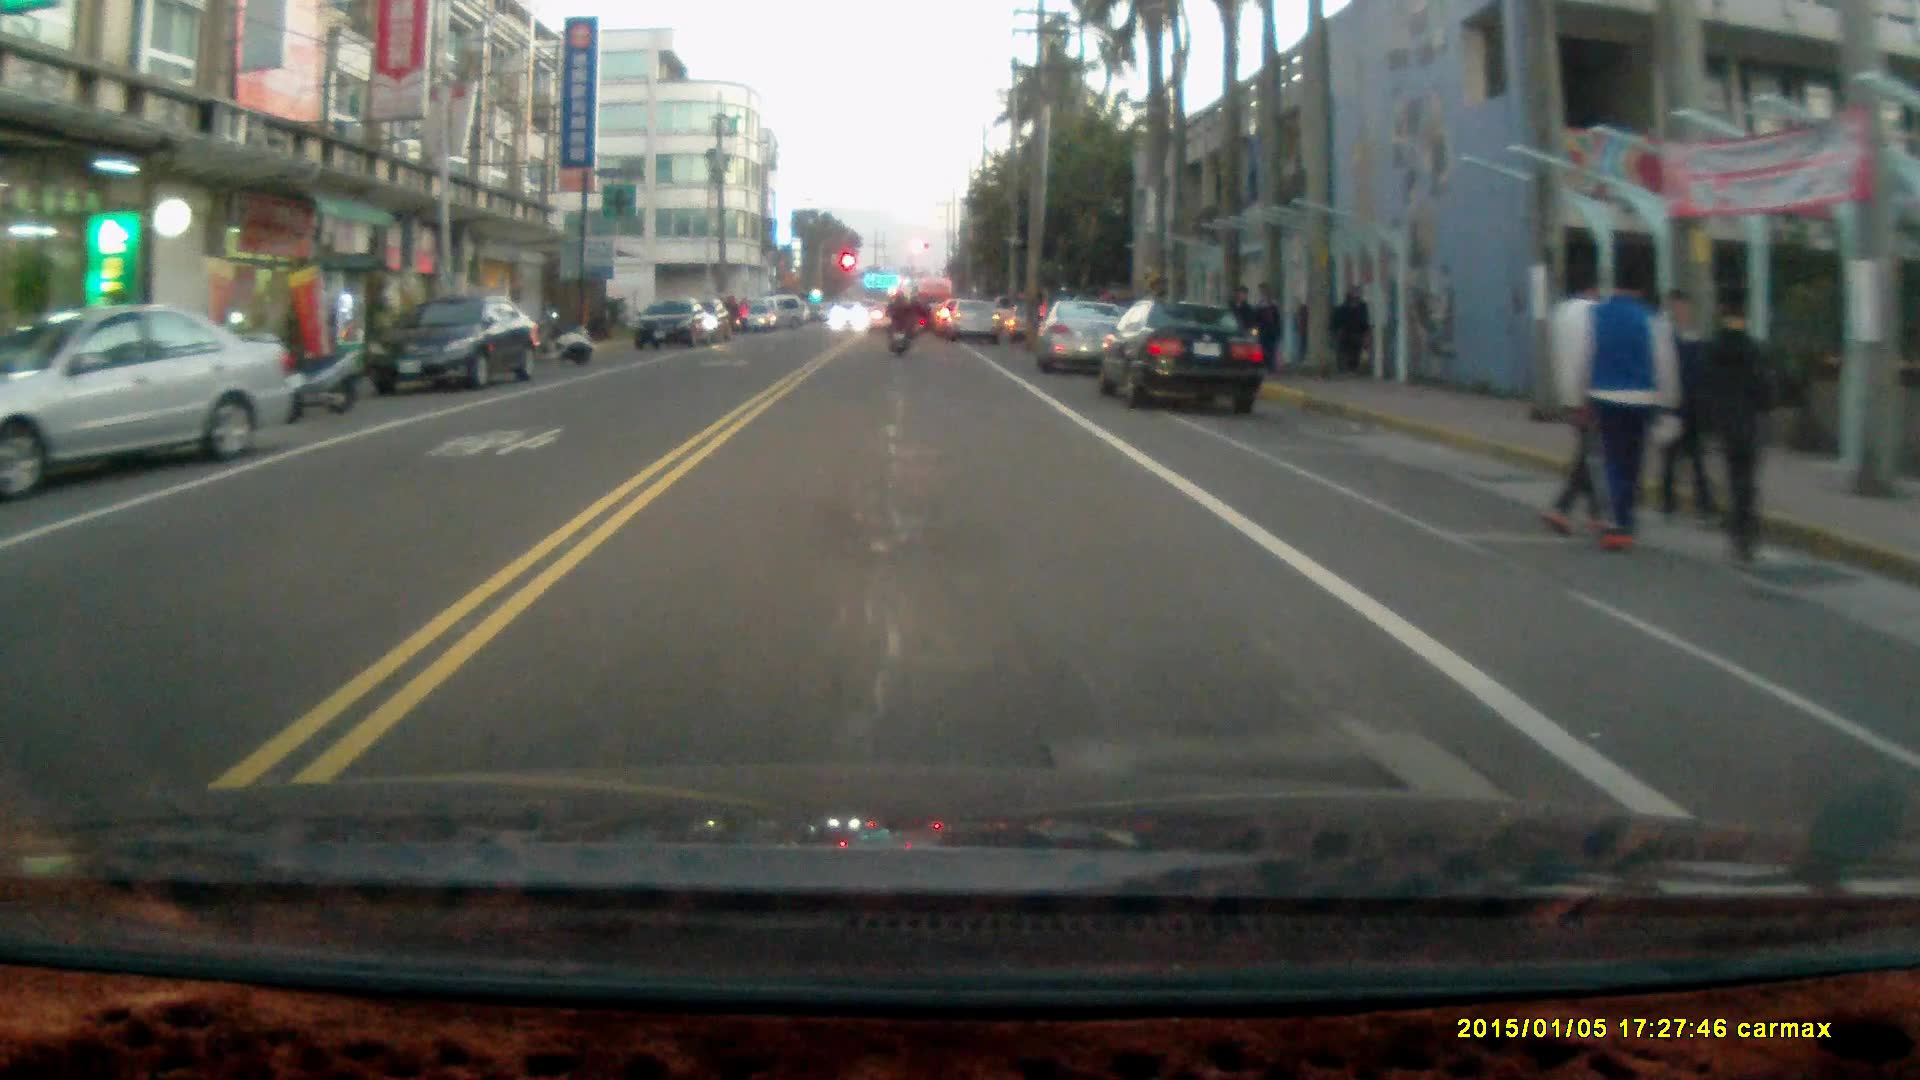pedestrian: (1569, 253, 1677, 553), (1699, 286, 1781, 572), (1542, 269, 1623, 537), (1654, 288, 1722, 532), (1331, 280, 1373, 384), (1248, 287, 1282, 376)
rider: (883, 286, 914, 358)
vehicle: (1, 302, 302, 489), (1099, 296, 1269, 414), (373, 290, 541, 393), (1036, 299, 1134, 378), (630, 295, 721, 351), (951, 296, 1006, 341)
